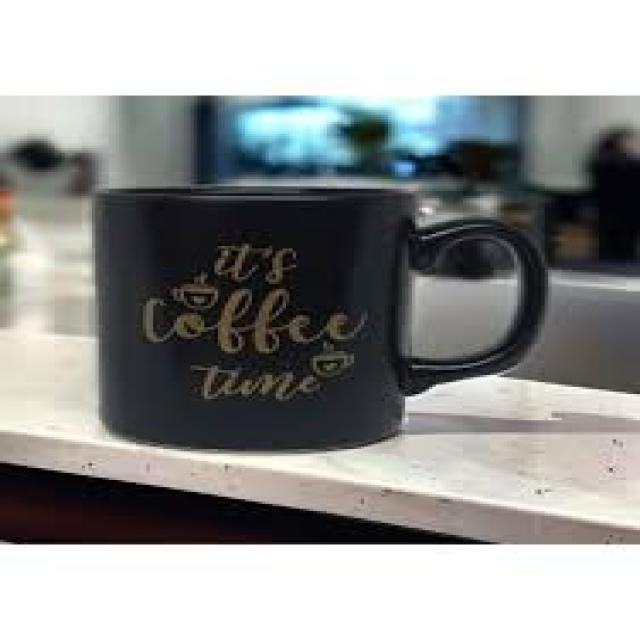taza: (91, 182, 548, 456)
